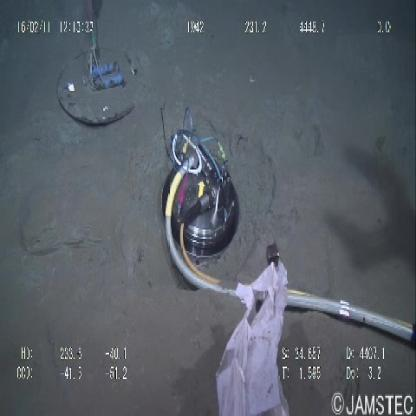Rov: (158, 94, 241, 307), (53, 2, 143, 134)
Rác: (213, 254, 290, 416)
